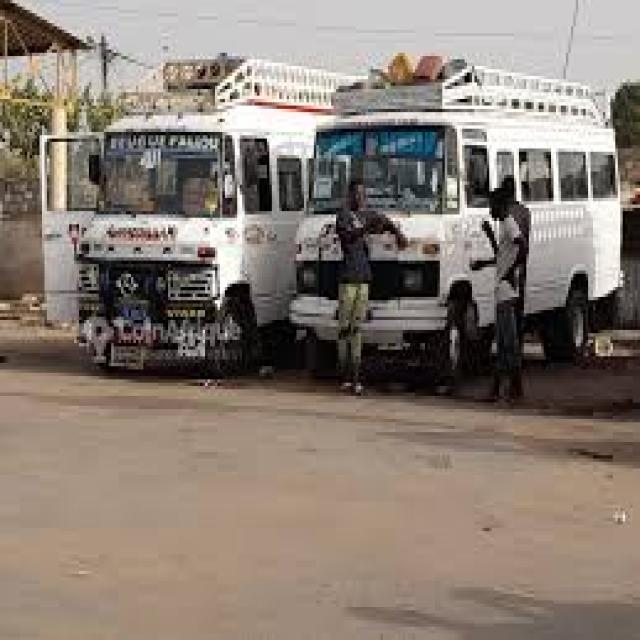ndiaga ndiaye: (290, 58, 621, 376), (43, 61, 338, 371)
